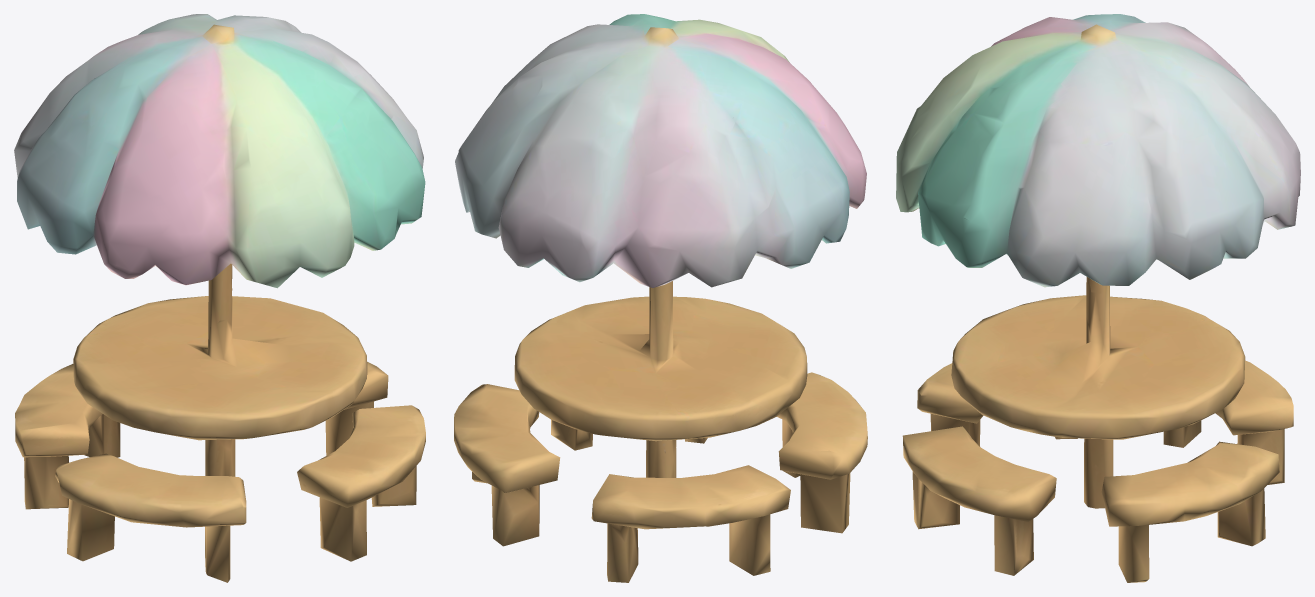
Rendered from table-parasol.glb.
3 renders of one model, left to right at view 1: azimuth 30°, elevation 25°; view 2: azimuth 150°, elevation 25°; view 3: azimuth 270°, elevation 25°, orthographic.
Parts seen in each view (by area): view 1: tripo_node_4317e332-2f69-468e-ac64-98f23018e49e; view 2: tripo_node_4317e332-2f69-468e-ac64-98f23018e49e; view 3: tripo_node_4317e332-2f69-468e-ac64-98f23018e49e.
Part boxes in pixels (box(x1,y1,x2,y2)): tripo_node_4317e332-2f69-468e-ac64-98f23018e49e: box(14, 14, 425, 582); tripo_node_4317e332-2f69-468e-ac64-98f23018e49e: box(454, 14, 867, 582); tripo_node_4317e332-2f69-468e-ac64-98f23018e49e: box(896, 14, 1300, 582).
Size of the model in its own units: 0.7692 by 1 by 0.7712.
1 material, 1 textured.
